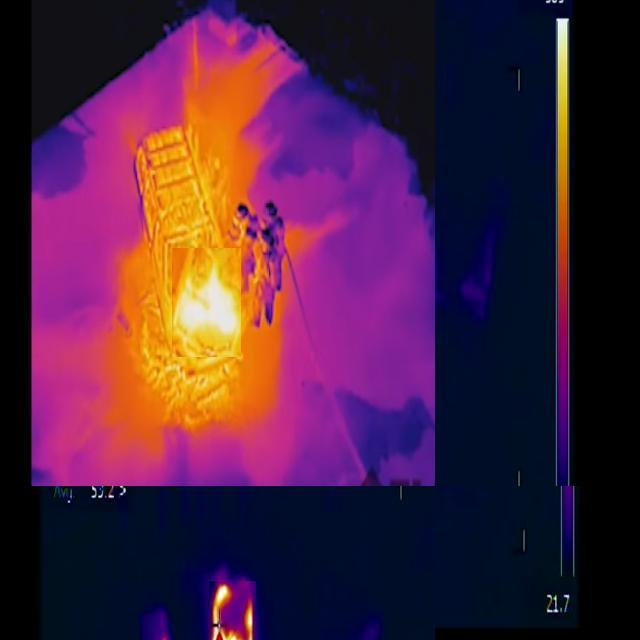fire: (173, 249, 242, 358), (210, 582, 257, 640), (152, 631, 174, 640)
